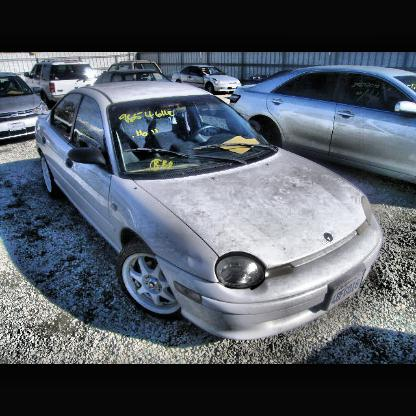Plymouth Neon Coupe 1999: (36, 80, 387, 340)
